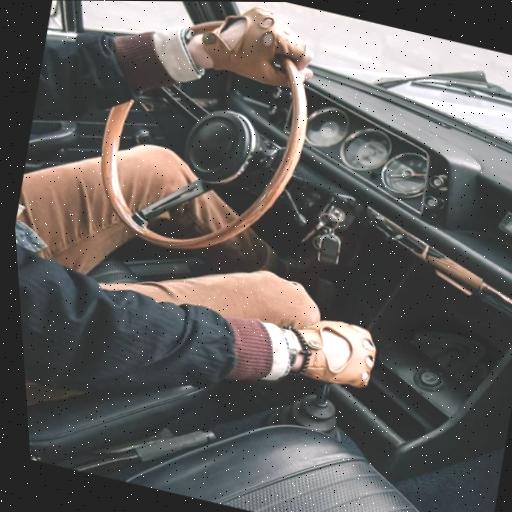Hands-on-the-Wheel: (124, 1, 364, 115)
